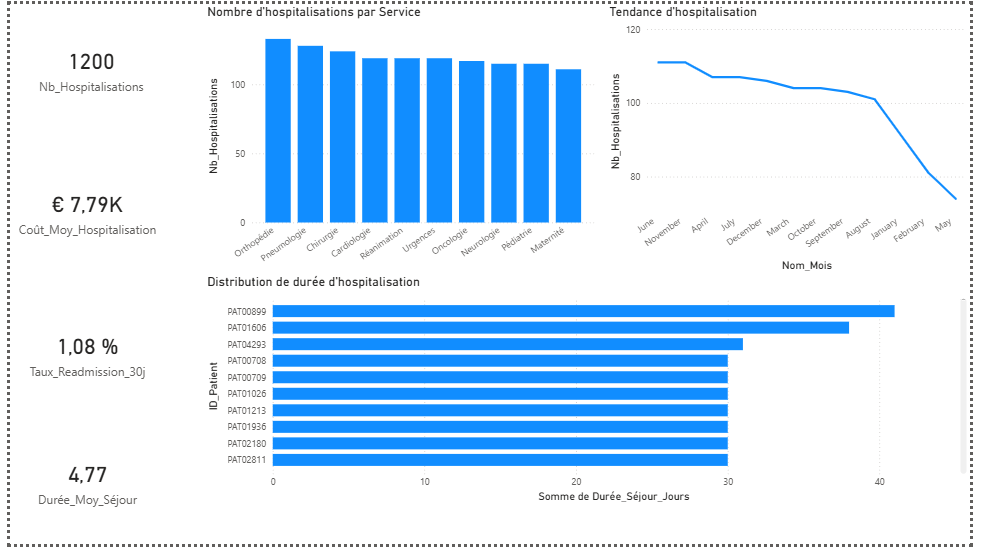

What the dashboard file says about the page in this screenshot:
{"tool":"powerbi","page":{"name":"Hospitalisations","canvas":[1280,720],"ordinal":4},"visuals":[{"type":"card","fields":{"Values":["Mesures.Nb_Hospitalisations"]},"box":[10,0,196,170],"z":0},{"type":"card","fields":{"Values":["Mesures.Taux_Readmission_30j"]},"box":[0,380,206,170],"z":1},{"type":"card","fields":{"Values":["Mesures.Durée_Moy_Séjour"]},"box":[0,550,206,170],"z":3},{"type":"card","fields":{"Values":["Mesures.Coût_Moy_Hospitalisation"]},"box":[0,190,206,170],"z":4},{"type":"clusteredColumnChart","title":"Nombre d''hospitalisations par Service","fields":{"Y":["Mesures.Nb_Hospitalisations"],"Category":["Hospitalisations.Service"]},"box":[258,0,526,380],"z":5},{"type":"lineChart","title":"Tendance d''hospitalisation","fields":{"Y":["Mesures.Nb_Hospitalisations"],"Category":["Calendrier.Nom_Mois"]},"box":[794,0,486,360],"z":6},{"type":"clusteredBarChart","title":"Distribution de durée d''hospitalisation","fields":{"Y":["Sum(Hospitalisations.Durée_Séjour_Jours)"],"Category":["Hospitalisations.ID_Patient"]},"box":[258,360,1022,308],"z":7}]}

Visuals, with their boxes in screenshot pixels (x1, y1, x2, y2), scaled from the page's 1280x720 canvas onto the 987x558 screenshot:
card - Mesures.Nb_Hospitalisations: detection(8, 0, 159, 132)
card - Mesures.Taux_Readmission_30j: detection(0, 294, 159, 426)
card - Mesures.Durée_Moy_Séjour: detection(0, 426, 159, 557)
card - Mesures.Coût_Moy_Hospitalisation: detection(0, 147, 159, 279)
"Nombre d''hospitalisations par Service" clusteredColumnChart: detection(199, 0, 605, 294)
"Tendance d''hospitalisation" lineChart: detection(612, 0, 986, 279)
"Distribution de durée d''hospitalisation" clusteredBarChart: detection(199, 279, 986, 518)
